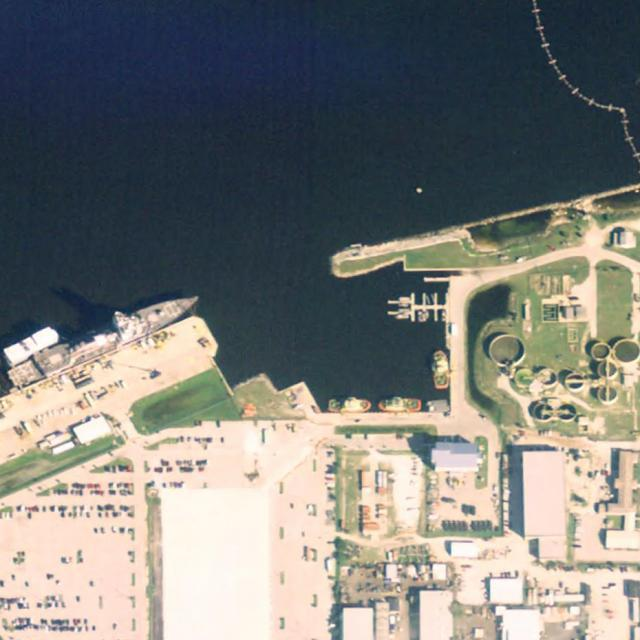Destroyer: (6, 287, 204, 390)
Hovercraft: (429, 349, 450, 389), (379, 396, 423, 413), (328, 397, 372, 413)
